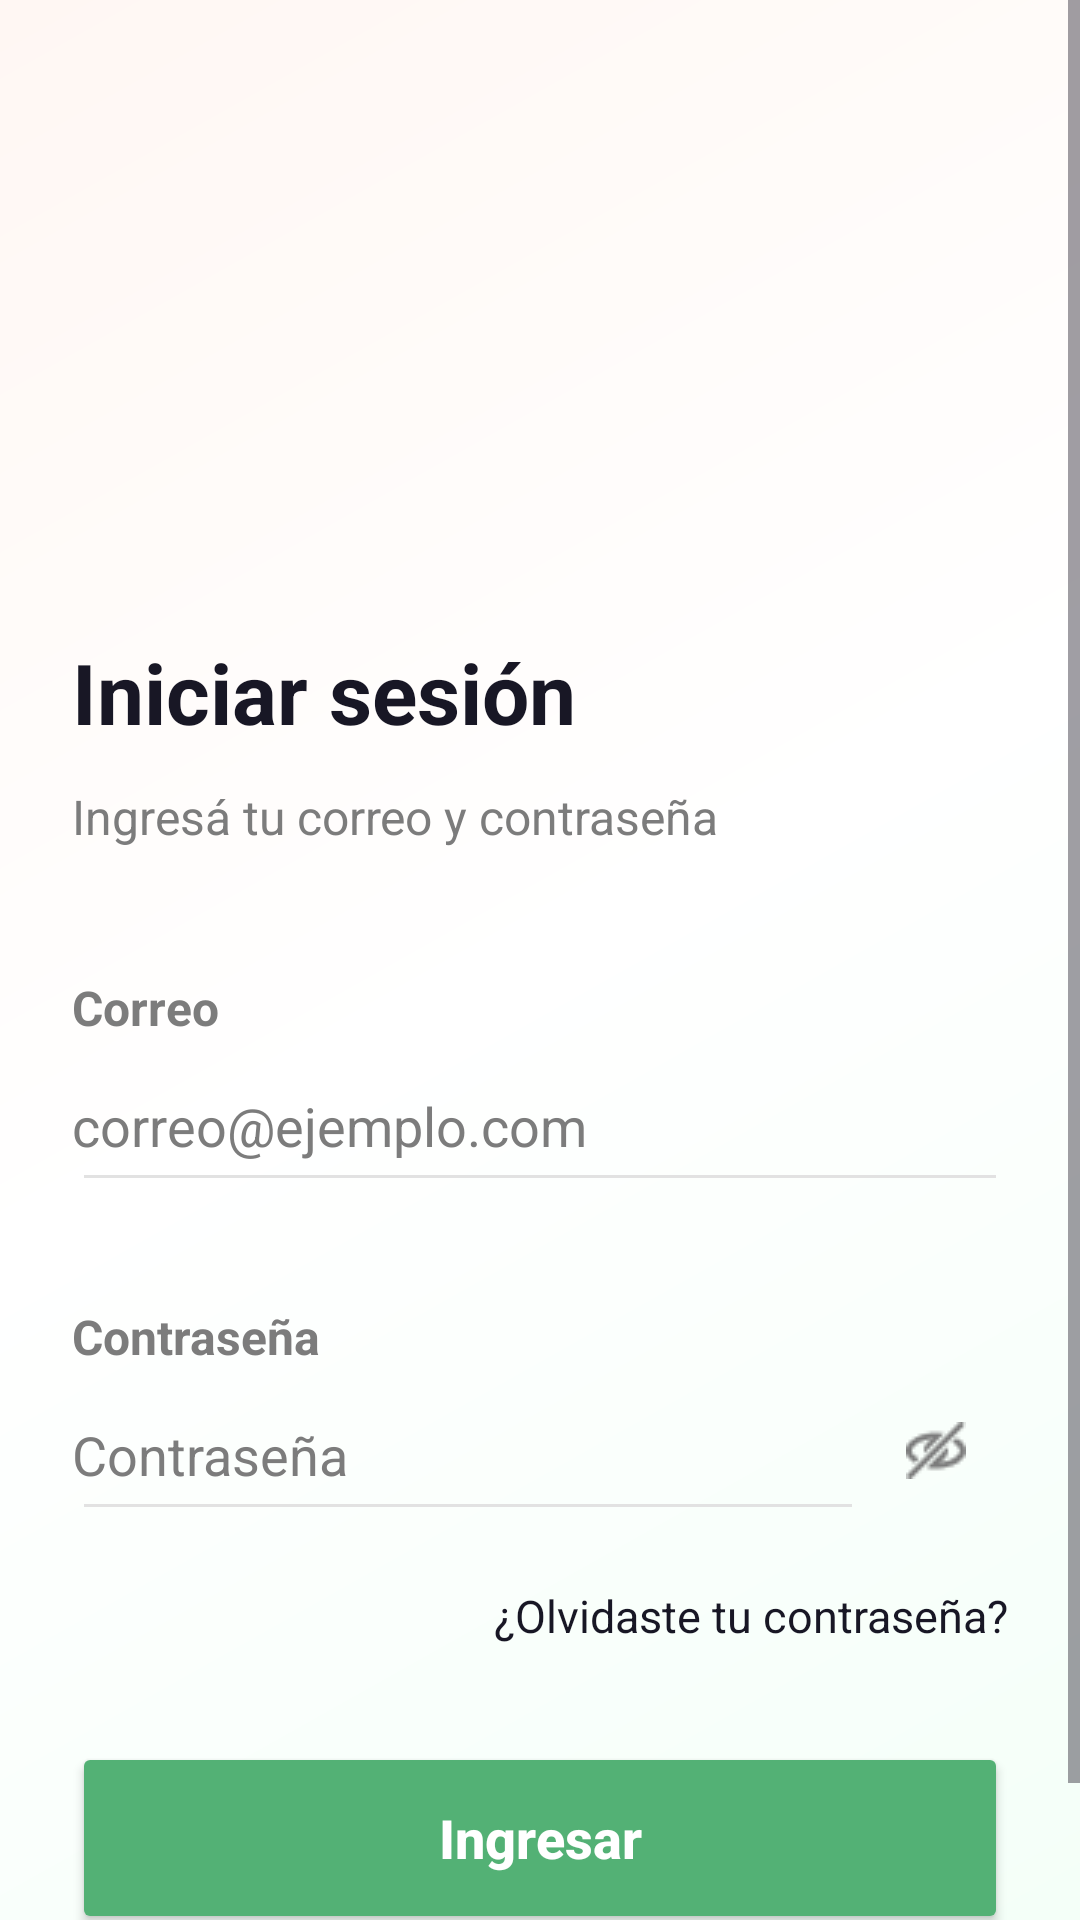

Screen size 1080 x 1920. Icon name, then its center in pixels as (x=x, y=y):
Ver: (x=936, y=1450)
